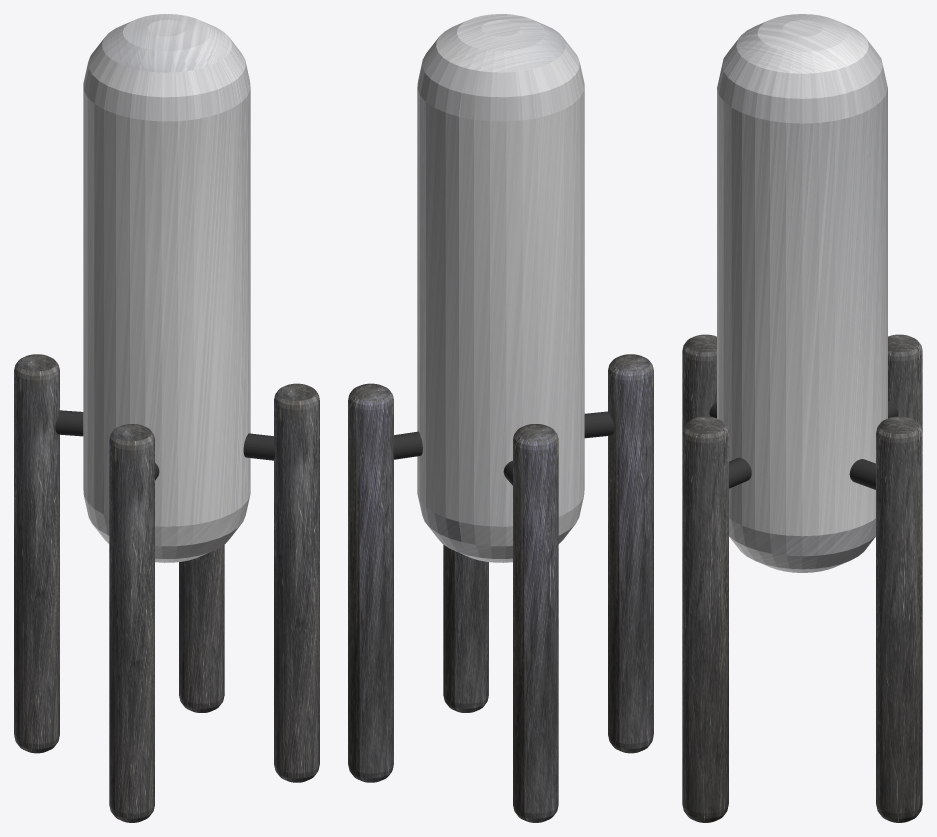
The model's file is shit.obj.
3 renders of one model, left to right at view 1: azimuth 30°, elevation 25°; view 2: azimuth 150°, elevation 25°; view 3: azimuth 270°, elevation 25°, orthographic.
Parts seen in each view (by area): view 1: Цилиндр.004, Цилиндр, Цилиндр.001, Цилиндр.002, Цилиндр.003, Цилиндр.005, Цилиндр.007; view 2: Цилиндр.004, Цилиндр.003, Цилиндр.002, Цилиндр.001, Цилиндр, Цилиндр.006, Цилиндр.008; view 3: Цилиндр.004, Цилиндр, Цилиндр.003, Цилиндр.001, Цилиндр.002, Цилиндр.008, Цилиндр.005.
Part boxes in pixels (x1,y1,x2,y2): Цилиндр.004: [83, 14, 250, 562]; Цилиндр: [274, 383, 319, 782]; Цилиндр.001: [109, 424, 154, 822]; Цилиндр.002: [14, 354, 59, 753]; Цилиндр.003: [179, 544, 224, 712]; Цилиндр.005: [243, 433, 274, 460]; Цилиндр.007: [55, 410, 83, 436]; Цилиндр.004: [417, 14, 584, 562]; Цилиндр.003: [348, 383, 393, 782]; Цилиндр.002: [513, 424, 558, 822]; Цилиндр.001: [608, 354, 653, 753]; Цилиндр: [443, 544, 488, 712]; Цилиндр.006: [584, 411, 614, 438]; Цилиндр.008: [393, 431, 422, 459]; Цилиндр.004: [717, 14, 887, 572]; Цилиндр: [682, 416, 728, 822]; Цилиндр.003: [876, 416, 922, 822]; Цилиндр.001: [682, 334, 716, 431]; Цилиндр.002: [888, 334, 922, 431]; Цилиндр.008: [849, 459, 875, 489]; Цилиндр.005: [729, 457, 751, 488].
Size of the model in its own units: 3.73 by 12.8 by 3.73.
3 materials, 2 textured.
